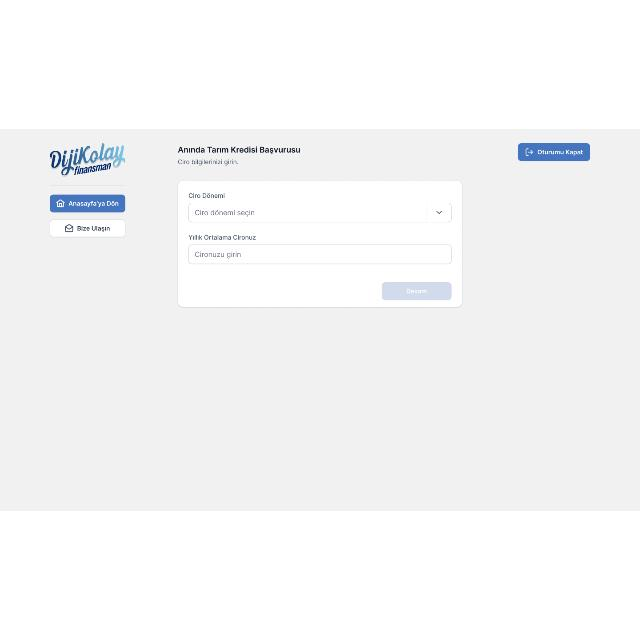QLabel: (176, 144, 300, 154), (186, 233, 258, 241), (176, 158, 240, 166), (69, 200, 119, 208), (538, 148, 584, 156), (77, 224, 111, 232), (188, 192, 226, 198), (402, 287, 428, 295)
VBtn: (50, 220, 126, 238), (516, 143, 592, 161), (50, 194, 126, 212), (381, 282, 453, 300)
VCard: (178, 180, 462, 308)
VCombobox: (188, 203, 452, 223)
VDivider: (178, 274, 462, 276)
VIcon: (524, 148, 534, 156), (56, 198, 64, 208), (64, 224, 74, 232)
VImg: (46, 138, 128, 182)
VTextField: (188, 244, 452, 264)
